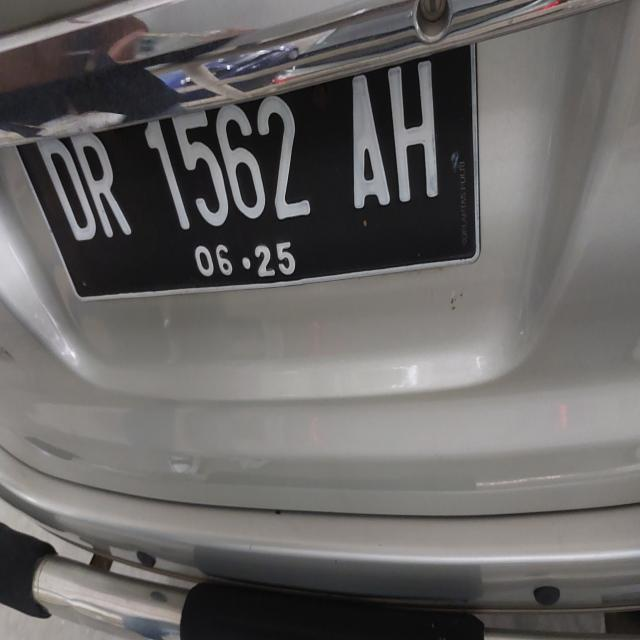1: (134, 113, 196, 241)
2: (248, 98, 316, 222)
5: (164, 99, 232, 239)
6: (204, 86, 274, 218)
A: (329, 70, 396, 215)
D: (36, 118, 100, 257)
H: (374, 54, 448, 208)
R: (65, 126, 138, 244)
